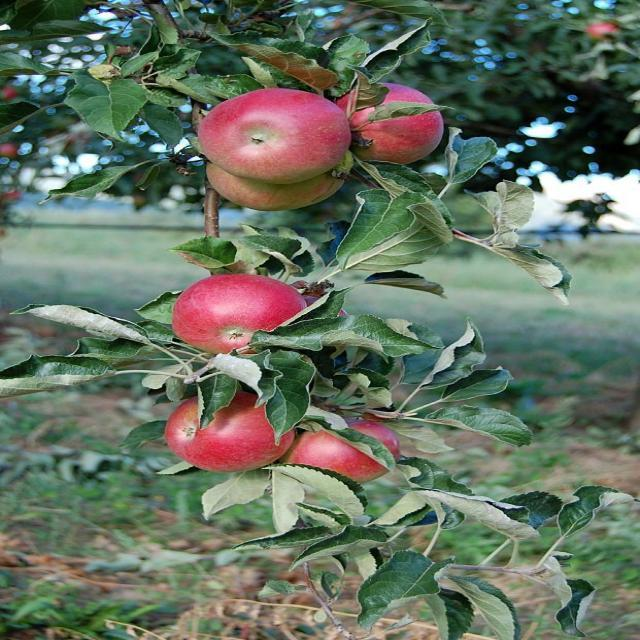Red Apple: (209, 92, 356, 178), (172, 388, 291, 476), (209, 144, 343, 215), (185, 269, 299, 342), (288, 416, 404, 483), (344, 85, 447, 159), (590, 23, 614, 37), (1, 142, 15, 153)
